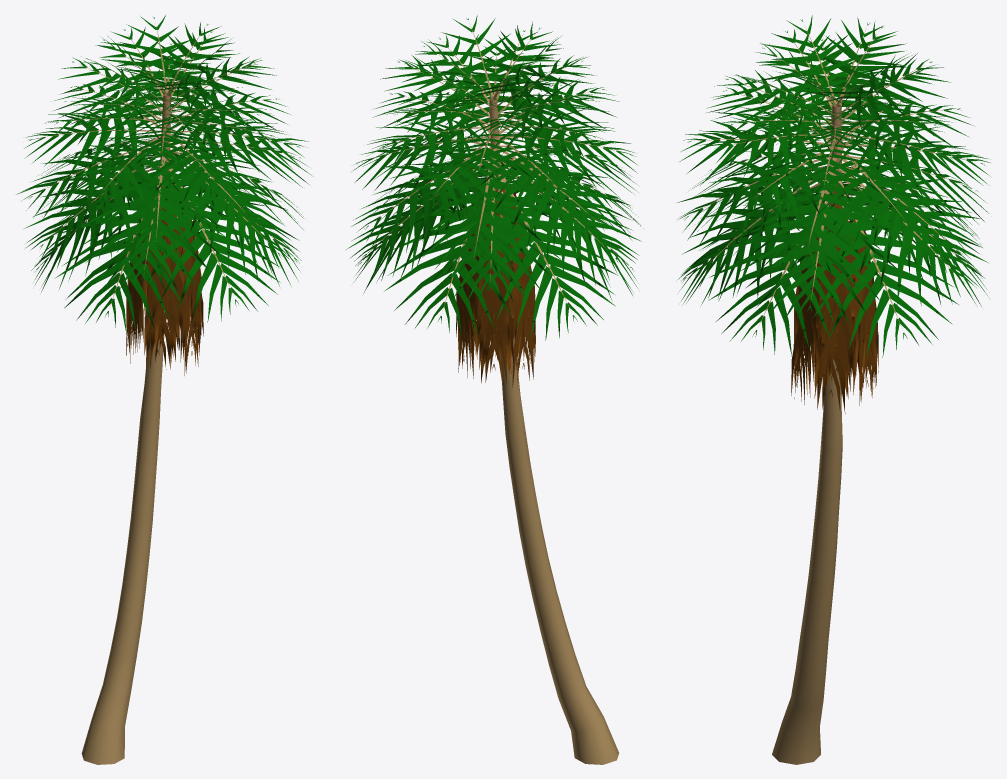
Rendered from Tree_04.fbx.
3 views of the same model, side by side, from view 1: azimuth 30°, elevation 25°; view 2: azimuth 150°, elevation 25°; view 3: azimuth 270°, elevation 25° (orthographic). The views are drawn at different scales.
Parts seen in each view (by area): view 1: Foliage002; view 2: Foliage002; view 3: Foliage002.
Boxes of the visible parts, <box> form: Foliage002: <box>16,15,313,764</box>; Foliage002: <box>346,15,643,764</box>; Foliage002: <box>677,15,990,764</box>.
Bounding box in the file's own units: 435 × 1085 × 414.
